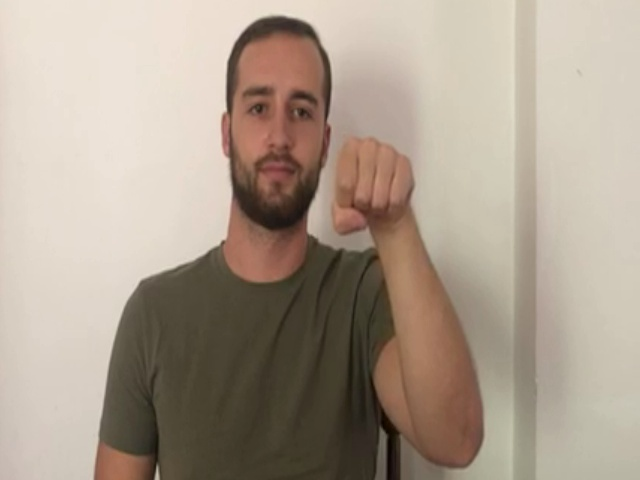Da: (329, 135, 416, 238)
